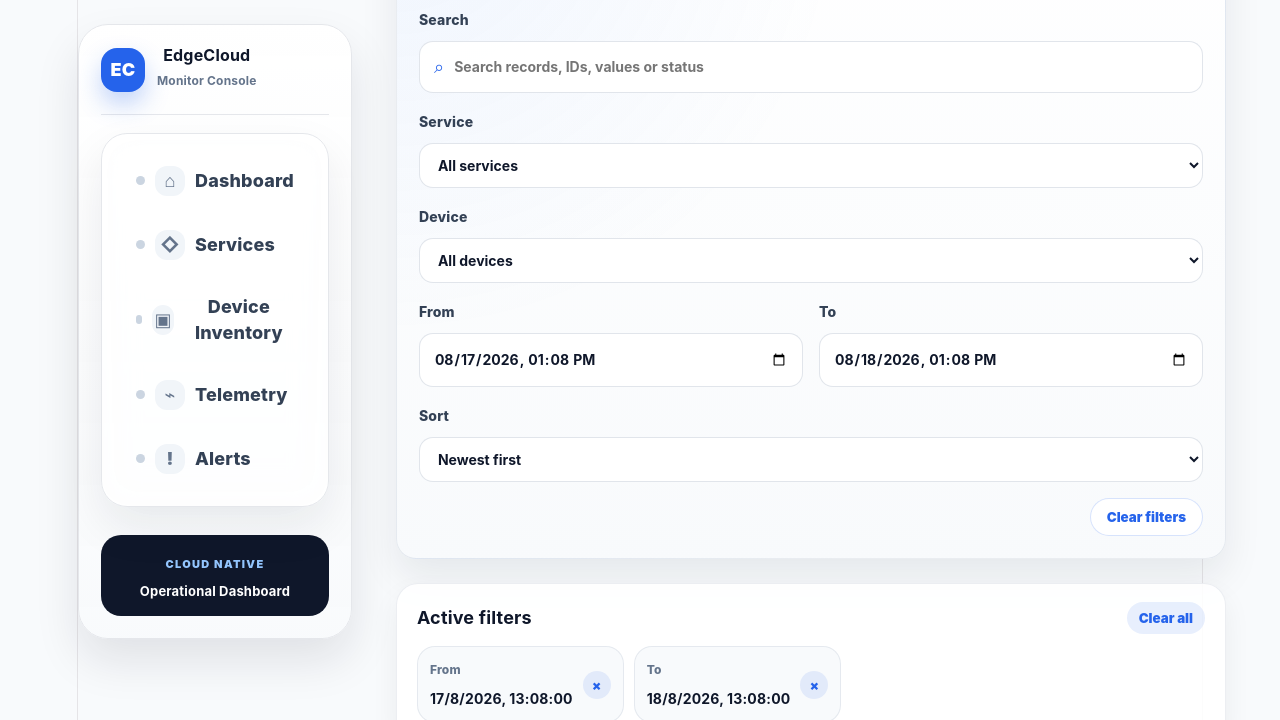
Test: ProjectHistoricalMetricsPage › keeps export state separate from pagination and shows validation feedback
(page scrolled)
Replace the text in the field labelled "From" with "2026-08-03T12:00" at (611, 360), box x1=419 y1=333 x2=803 y2=387
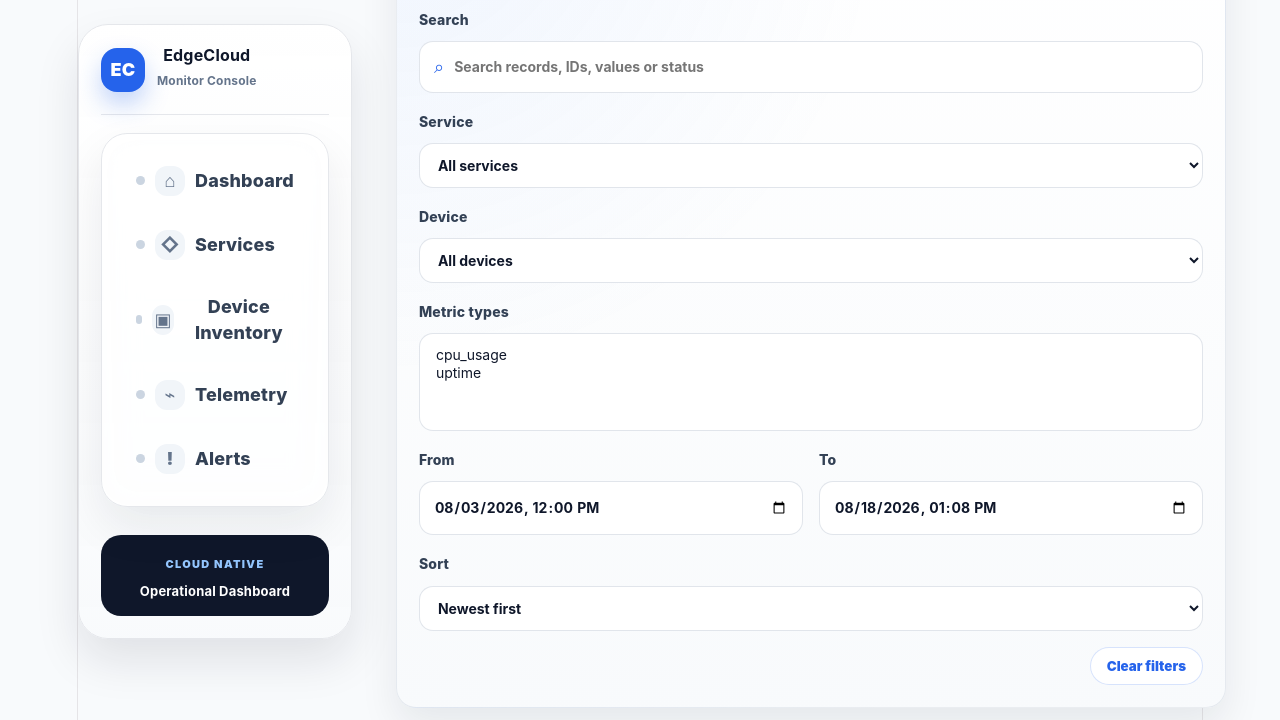
Replace the text in the field labelled "To" with "2026-08-01T12:00" at (1011, 508), box x1=819 y1=481 x2=1203 y2=536
(page scrolled)
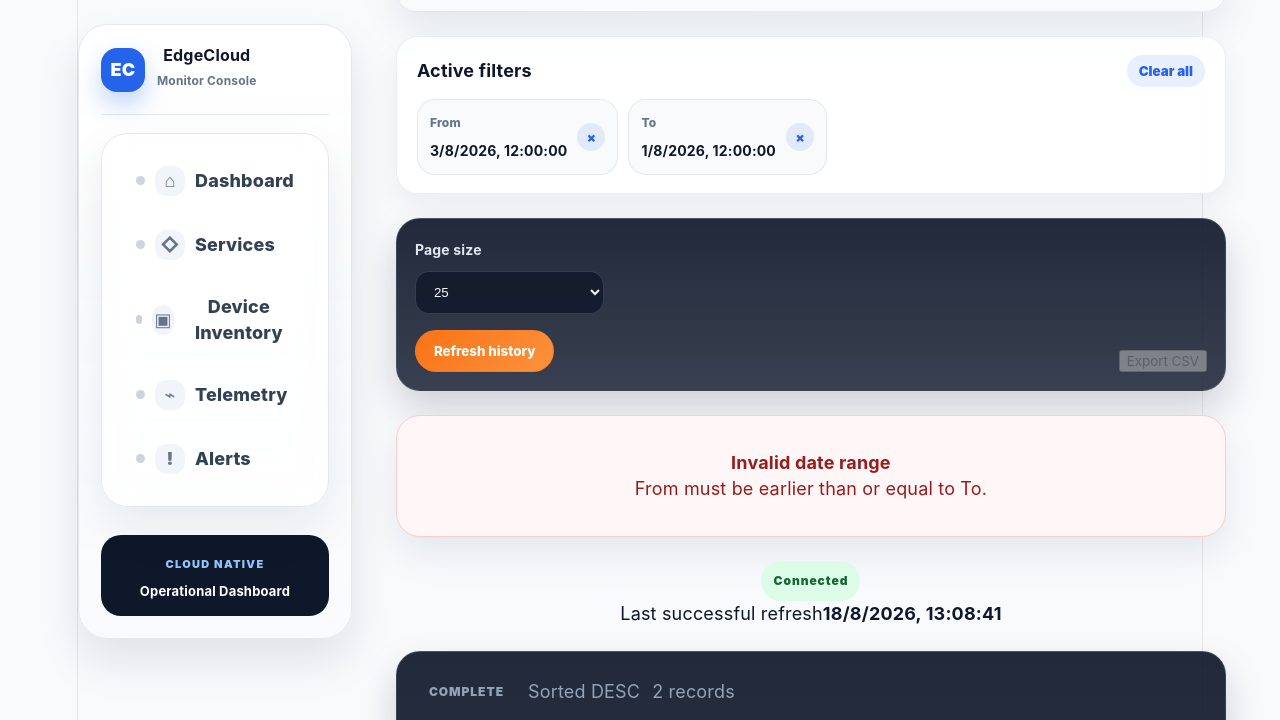
Expected: the text "Invalid date range" is shown, x1=731 y1=452 x2=891 y2=473
Expected: the button "Export CSV" is disabled, x1=1119 y1=350 x2=1207 y2=372
